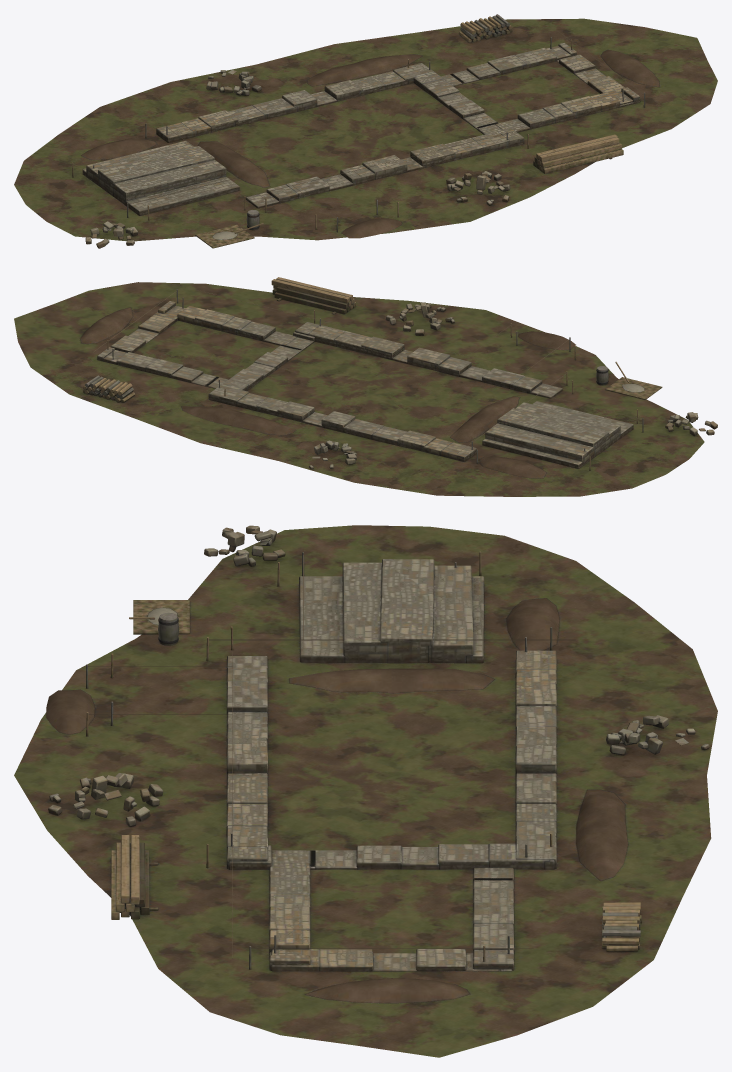
The model's file is church_build1.glb.
3 renders of one model, top to bottom at view 1: azimuth 30°, elevation 25°; view 2: azimuth 150°, elevation 25°; view 3: azimuth 270°, elevation 25°, orthographic. The views are drawn at different scales.
Visible parts, largest first — view 1: church_build1_LOD0; view 2: church_build1_LOD0; view 3: church_build1_LOD0.
Part boxes in pixels (box(x1,y1,x2,y2)): church_build1_LOD0: box(14, 14, 717, 248); church_build1_LOD0: box(14, 277, 717, 496); church_build1_LOD0: box(14, 525, 717, 1057).
Size of what is drawn, in the model's own units: 35.57 by 0.9572 by 19.87.
Materials: 1 (1 with a texture image).
